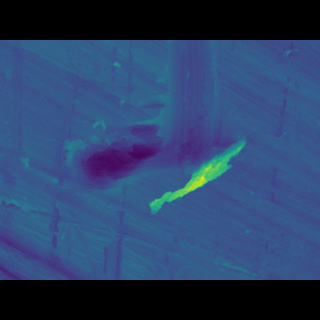Loch: (49, 117, 252, 194)
